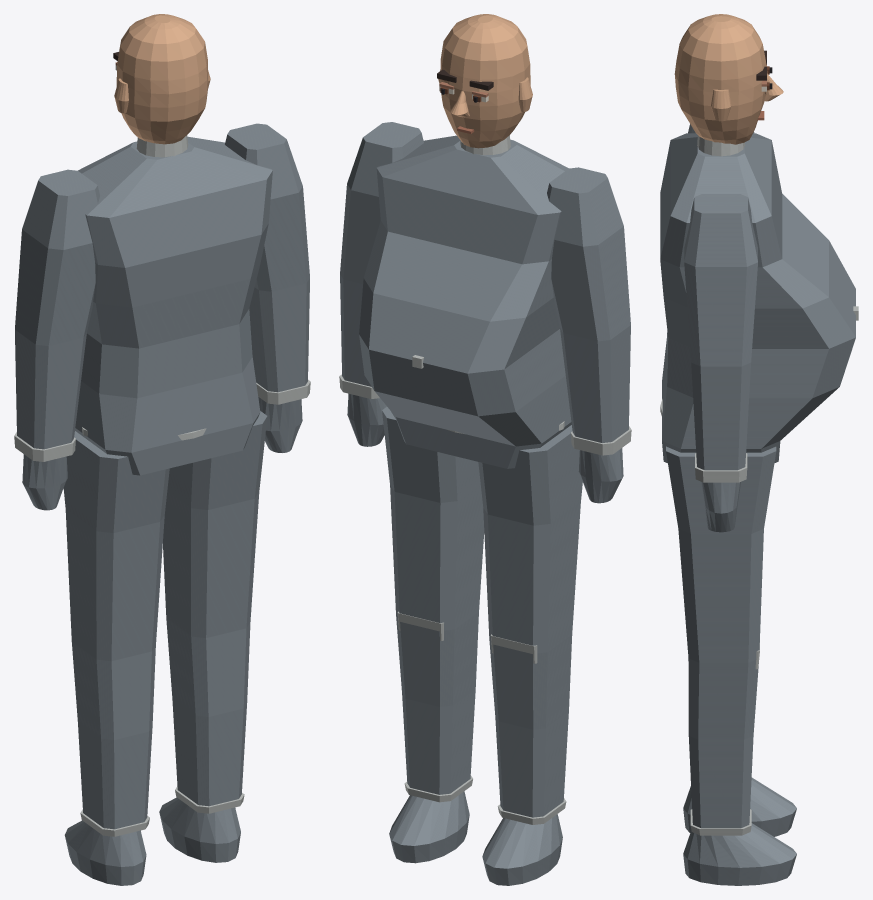
The picture shows the model from 3 angles, left to right: view 1: azimuth 30°, elevation 25°; view 2: azimuth 150°, elevation 25°; view 3: azimuth 270°, elevation 25°; orthographic projection.
Visible parts, largest first — view 1: 衣身腹段替换槽 · adultA, 孕期腹部造型替换件 · late, 精细成年头部母版; view 2: 衣身腹段替换槽 · adultA, 孕期腹部造型替换件 · late, 精细成年头部母版; view 3: 衣身腹段替换槽 · adultA, 孕期腹部造型替换件 · late, 精细成年头部母版.
Boxes of the visible parts, box(x1,y1,x2,y2) form: 衣身腹段替换槽 · adultA: box(14, 123, 310, 885); 孕期腹部造型替换件 · late: box(75, 224, 268, 452); 精细成年头部母版: box(113, 14, 210, 144); 衣身腹段替换槽 · adultA: box(339, 122, 631, 885); 孕期腹部造型替换件 · late: box(359, 220, 571, 446); 精细成年头部母版: box(437, 14, 532, 148); 衣身腹段替换槽 · adultA: box(660, 124, 796, 885); 孕期腹部造型替换件 · late: box(660, 194, 858, 448); 精细成年头部母版: box(674, 14, 783, 144).
Bounding box in the file's own units: 0.5883 × 1.7 × 0.368.
9 materials, 9 textured.
